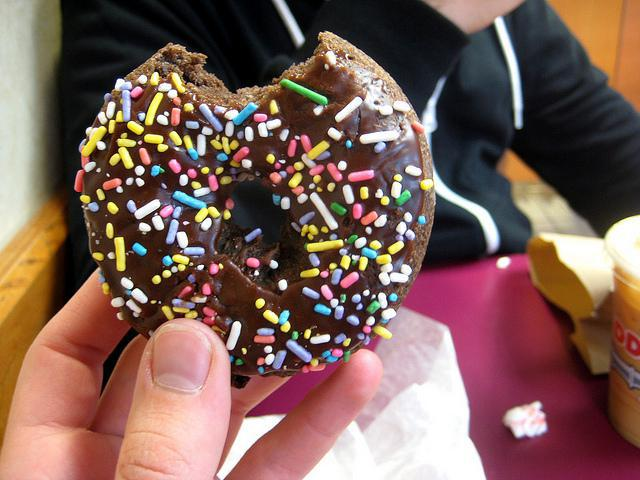hand: (1, 262, 384, 478)
